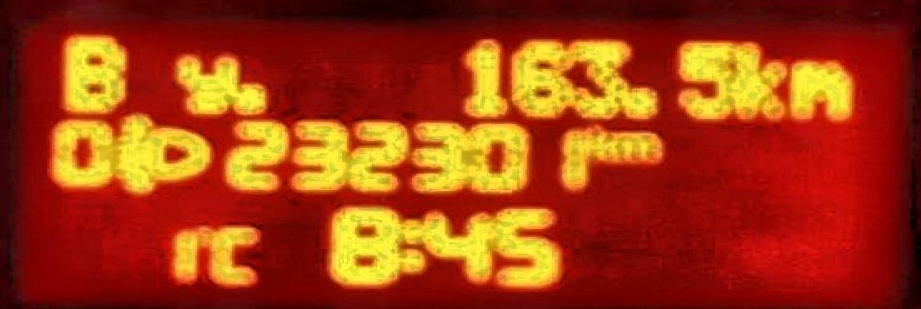-: (625, 78, 660, 124), (235, 76, 270, 113)
0: (50, 115, 115, 189), (466, 121, 530, 196)
1: (457, 34, 508, 120), (555, 125, 585, 195), (170, 226, 195, 289)
2: (225, 116, 286, 190), (350, 116, 405, 195)
3: (568, 35, 633, 120), (411, 117, 465, 196), (290, 114, 345, 191)
4: (423, 207, 490, 286)
5: (492, 204, 563, 288), (673, 37, 733, 120)
6: (510, 38, 568, 119)
8: (322, 201, 397, 288)
X: (58, 30, 125, 112), (788, 55, 855, 127), (733, 40, 783, 122), (175, 51, 235, 116), (208, 223, 265, 286), (620, 128, 666, 164), (398, 213, 422, 279), (588, 121, 620, 164)
